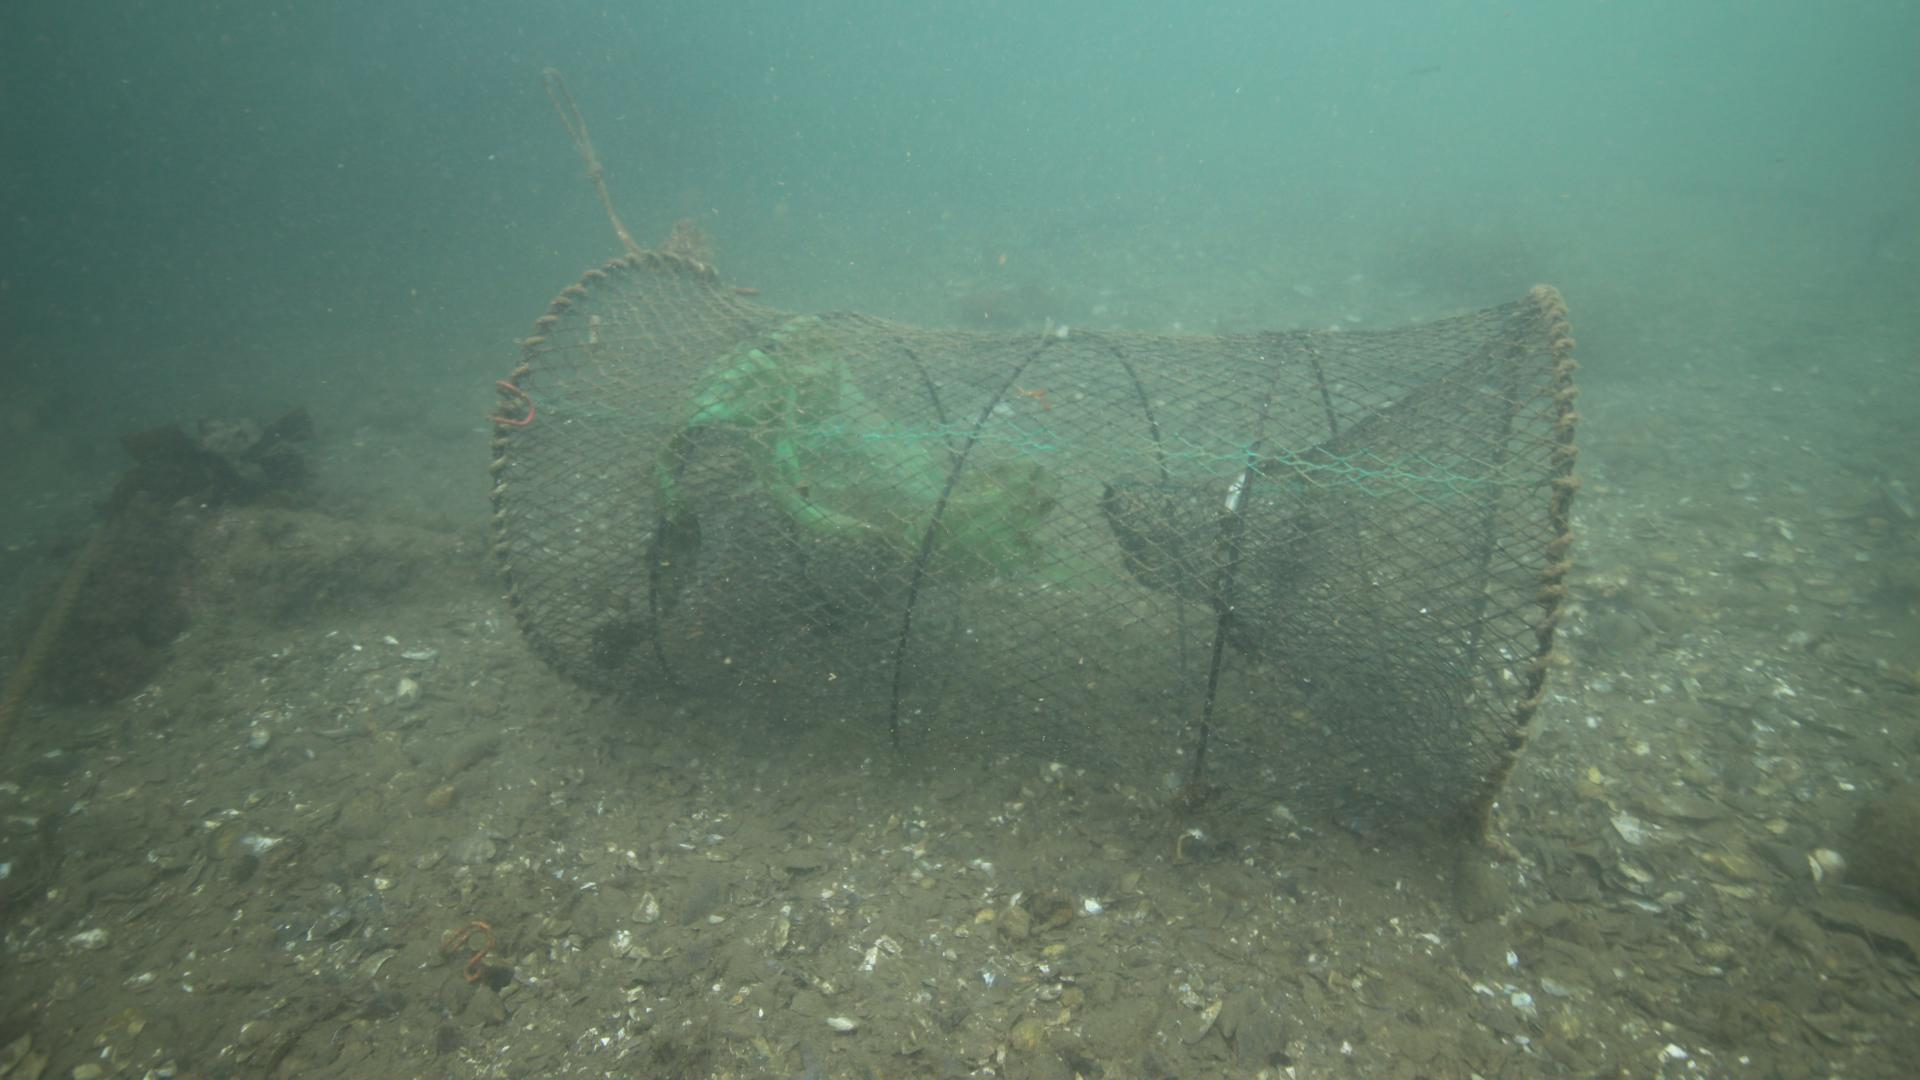rope: (535, 62, 644, 253)
spring fish trap: (484, 245, 1578, 840)
